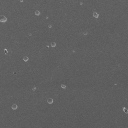corrosion: (45, 97, 55, 104), (11, 104, 19, 111), (49, 41, 57, 48), (92, 11, 100, 18), (1, 15, 8, 22), (22, 56, 30, 62), (34, 10, 41, 16), (3, 48, 9, 55), (60, 83, 67, 89), (122, 106, 128, 112), (47, 24, 52, 29)
